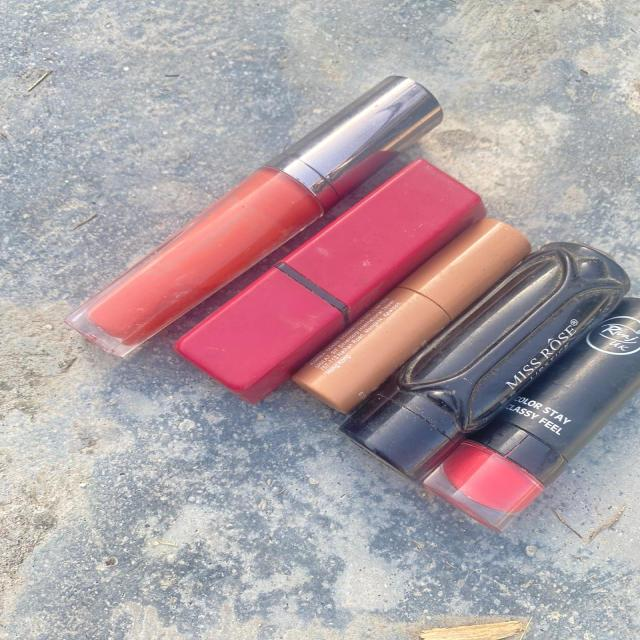lip gloss: (40, 64, 460, 330)
lip stick: (168, 155, 640, 553)
